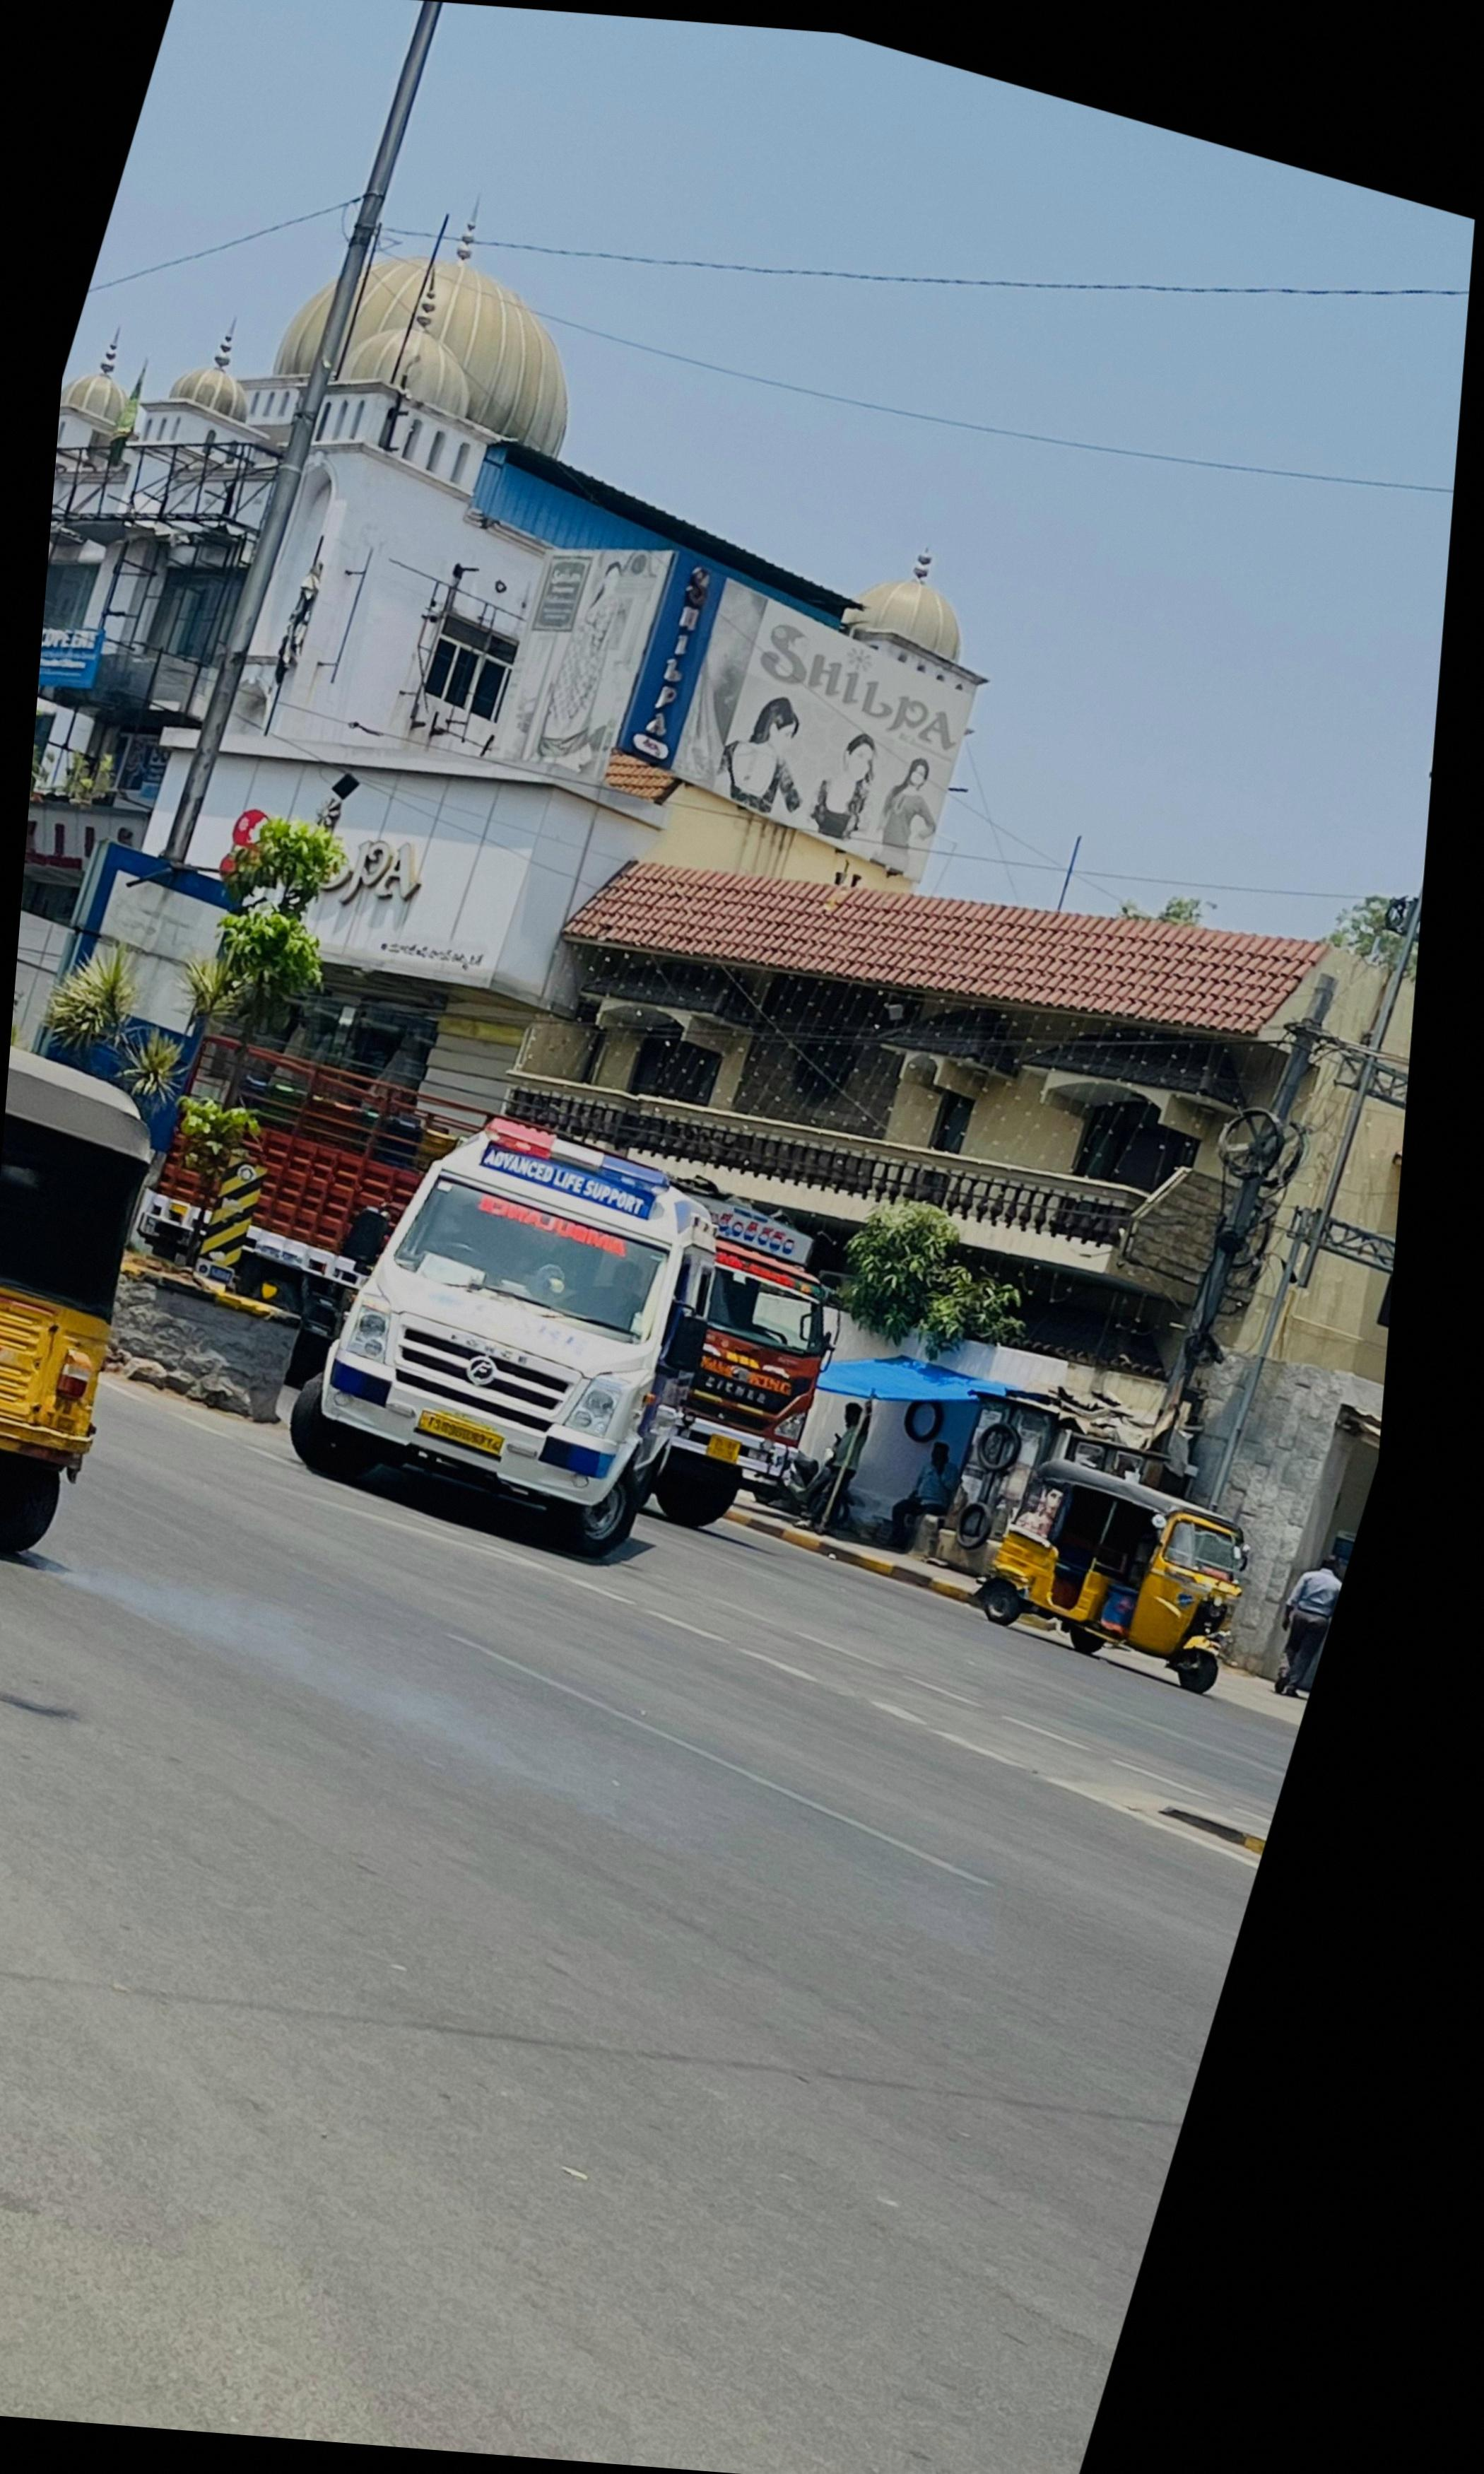ambulance: (293, 1119, 738, 1569)
